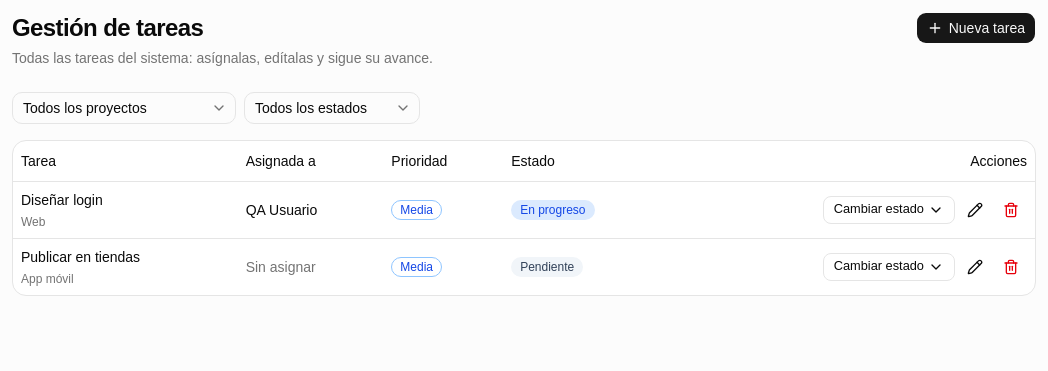
it: GestionTareasPage › filtra por estado pidiéndolo al backend, y avisa cuando no hay coincidencias
The width and height of the screenshot is (1048, 371).
Expected: the text "Diseñar login" is shown, [21,192,103,208]
Click the dropdown named "Filtrar por estado" at (332, 108), box [244,92,420,124]
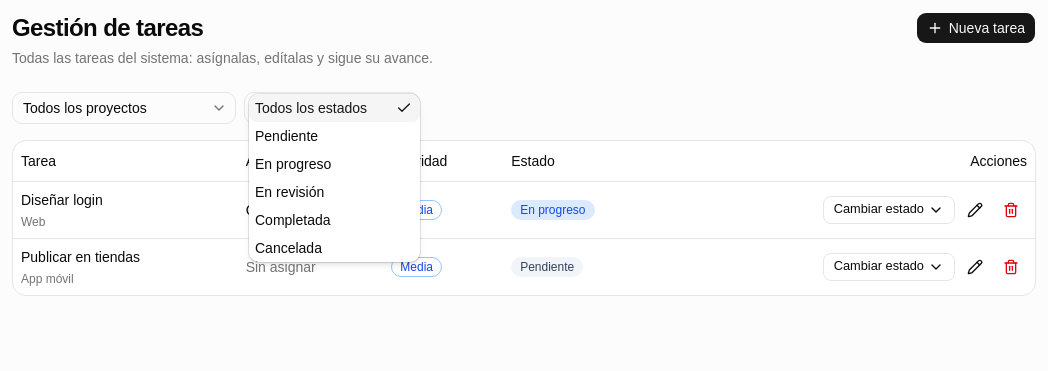
Click the option "En progreso" at (293, 164), box [255,156,331,172]
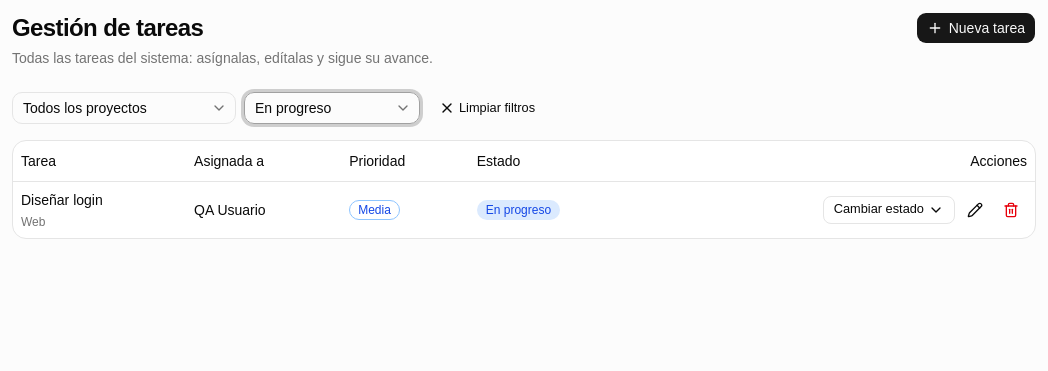
Expected: the text "Publicar en tiendas" is gone
Click the dropdown named "Filtrar por estado" at (332, 108), box [244,92,420,124]
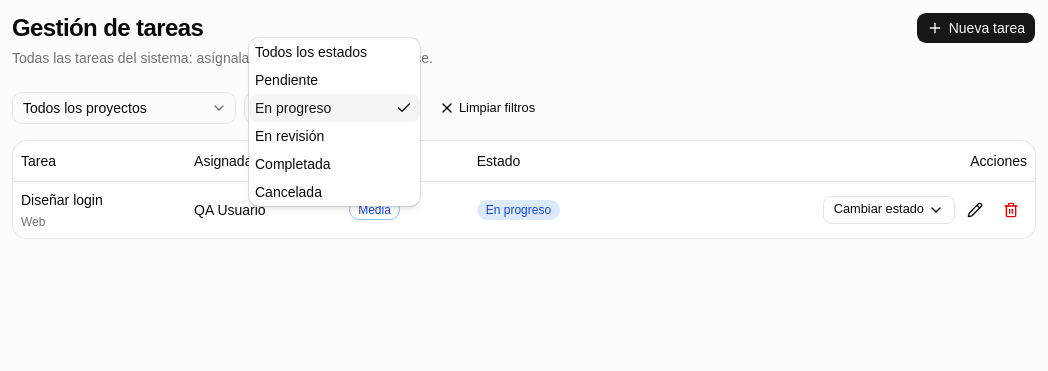
Click the option "Completada" at (293, 164), box [255,156,330,172]
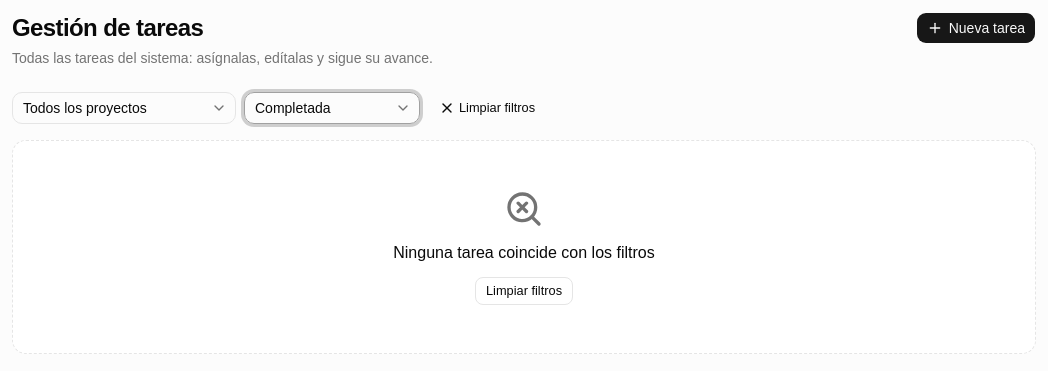
Expected: the text "Ninguna tarea coincide con los filtros" is shown, [393,241,655,265]
Click the 1st button "Limpiar filtros" at (487, 108), box [428,94,546,122]
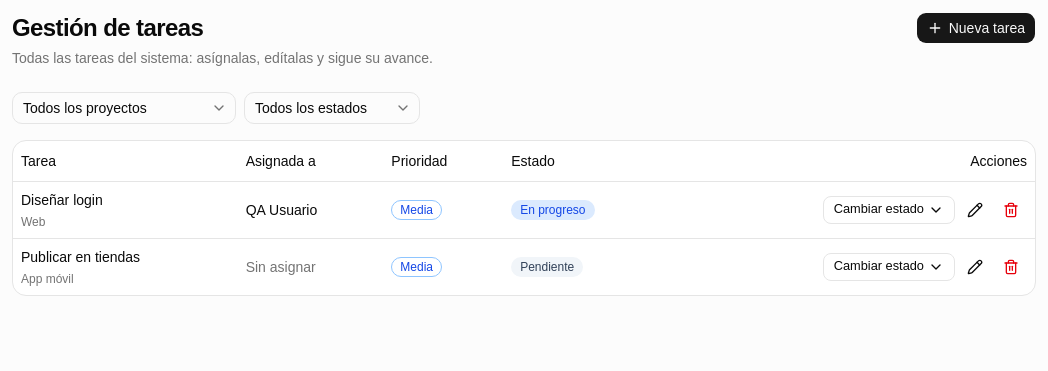
Expected: the text "Publicar en tiendas" is shown, [21,248,140,264]
